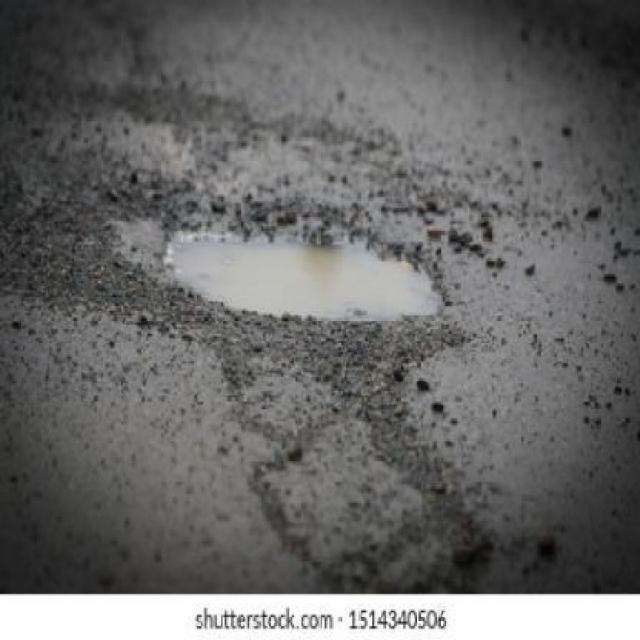Buraco: (151, 206, 457, 331)
